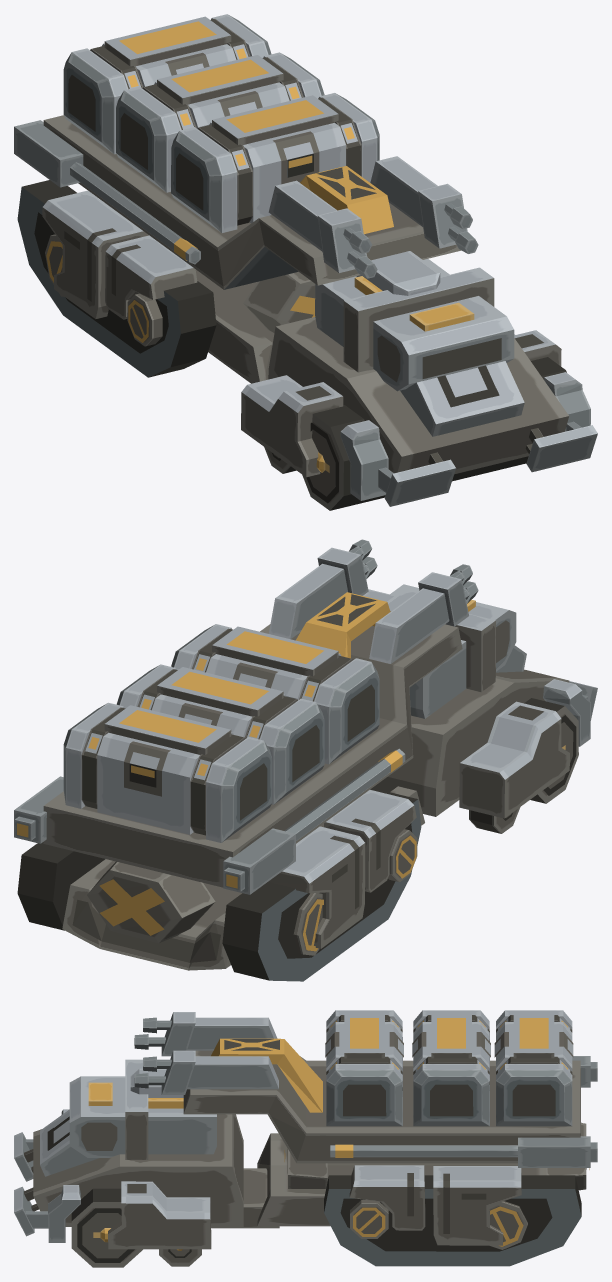
File: truck5.FBX
The picture shows the model from 3 angles, top to bottom: view 1: azimuth 30°, elevation 25°; view 2: azimuth 150°, elevation 25°; view 3: azimuth 270°, elevation 25°; orthographic projection. The views are drawn at different scales.
Visible parts, largest first — view 1: truck5, k, j, b, a, f, d, i, h; view 2: truck5, k, j, f, b, a, e, d, g, c, h; view 3: truck5, k, b, f, j, d, e, a, i, h, c.
Boxes of the visible parts, box(x1,y1,x2,y2) form: truck5: box(14, 14, 597, 506); k: box(17, 180, 216, 377); j: box(343, 267, 494, 372); b: box(302, 357, 566, 510); a: box(340, 372, 590, 500); f: box(70, 162, 200, 264); d: box(127, 293, 162, 346); i: box(347, 227, 478, 278); h: box(343, 203, 472, 253); truck5: box(14, 547, 597, 970); k: box(17, 790, 421, 981); j: box(363, 589, 495, 692); f: box(284, 748, 405, 840); b: box(524, 698, 578, 803); a: box(543, 679, 590, 746); e: box(293, 893, 323, 955); d: box(388, 829, 417, 882); g: box(14, 816, 244, 891); c: box(469, 807, 520, 833); h: box(349, 539, 472, 585); truck5: box(14, 1010, 590, 1249); k: box(324, 1122, 581, 1266); b: box(71, 1188, 142, 1267); f: box(330, 1144, 517, 1157); j: box(125, 1059, 148, 1159); d: box(350, 1200, 388, 1238); e: box(489, 1201, 527, 1249); a: box(48, 1109, 80, 1242); i: box(134, 1034, 165, 1088); h: box(143, 1017, 171, 1071); c: box(159, 1249, 201, 1266).
Size of the model in its own units: 60.23 by 144 by 51.55.
